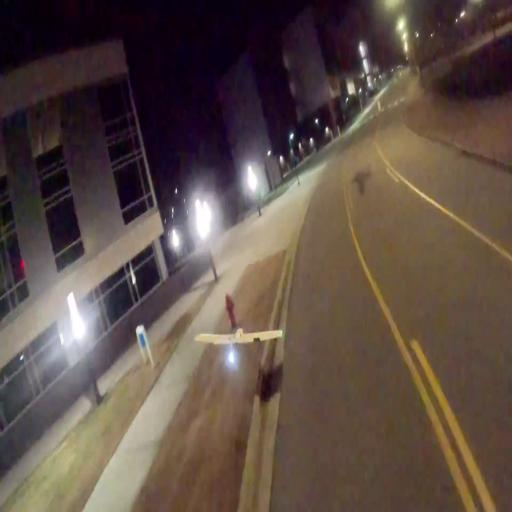uav: (192, 320, 290, 364)
